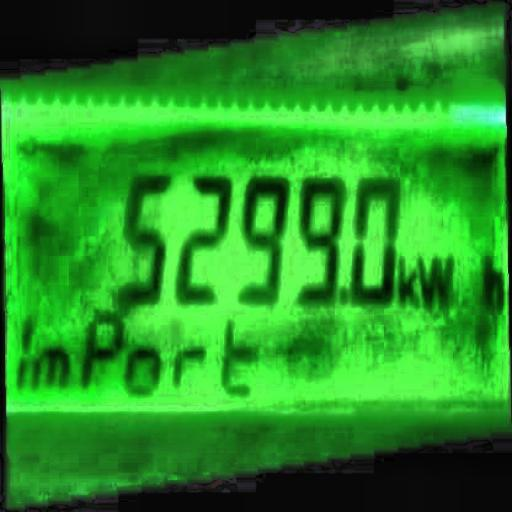DISPLAY_REGION: (0, 76, 511, 442)
SERIAL_REGION: (104, 168, 463, 316)
